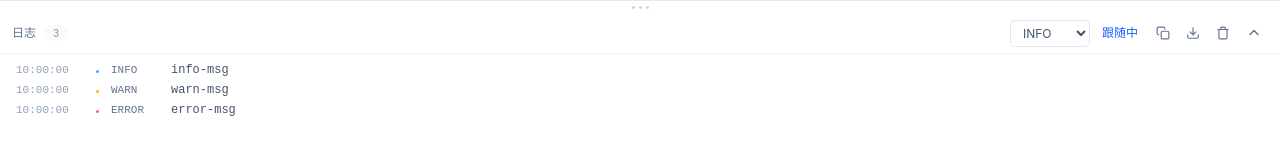
it: LogPanel › filters logs by level and above (WARNING shows WARNING + ERROR)
Select "WARN" in the dropdown showing "INFO": [1050, 33] box [1010, 20, 1090, 46]
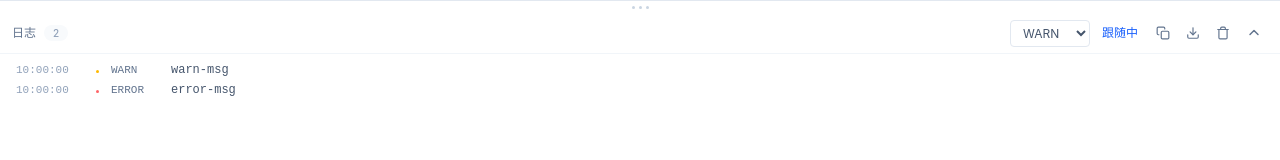
Expected: the text "warn-msg" is shown, [171, 62, 229, 78]
Expected: the text "info-msg" is gone
